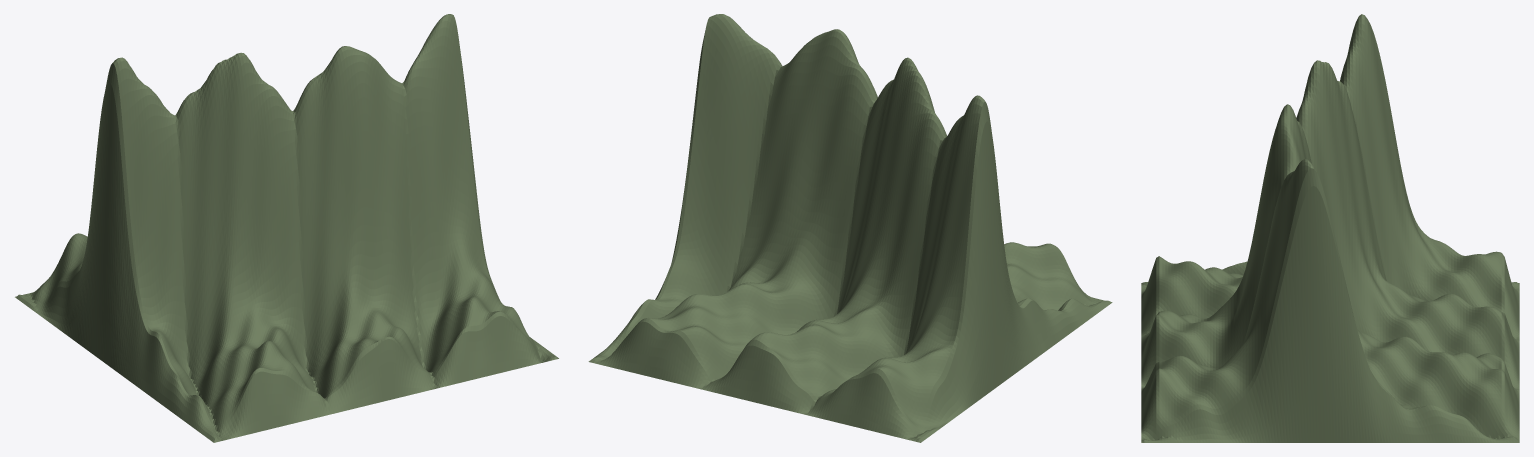
File: pine_snowline_spurs.obj
3 views of the same model, side by side, from view 1: azimuth 30°, elevation 25°; view 2: azimuth 150°, elevation 25°; view 3: azimuth 270°, elevation 25° (orthographic). The views are drawn at different scales.
Visible parts, largest first — view 1: pine_snowline_spurs; view 2: pine_snowline_spurs; view 3: pine_snowline_spurs.
Boxes of the visible parts, x1=… form: pine_snowline_spurs: x1=15, y1=14, x2=558, y2=442; pine_snowline_spurs: x1=588, y1=14, x2=1112, y2=442; pine_snowline_spurs: x1=1141, y1=14, x2=1519, y2=442.
Bounding box in the file's own units: 28 × 23.49 × 28.
